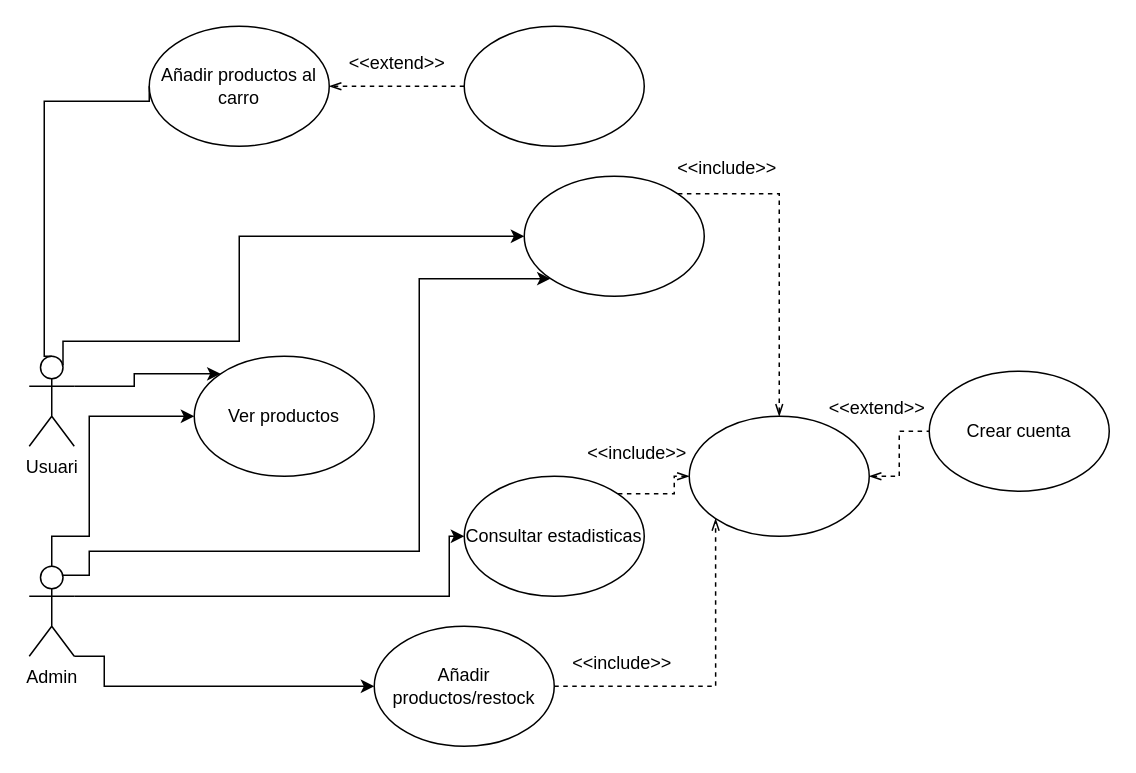
The diagram is 1136 pixels wide and 773 high, and some of its shapes have lost their labels. The shapes that lost their labels are listed below. From the top down, each one's centre as x and y in pixels, then its label:
the point at 553,85: Finalizar compra
the point at 613,235: Modificar perfil
the point at 778,475: Identificarse (login)
